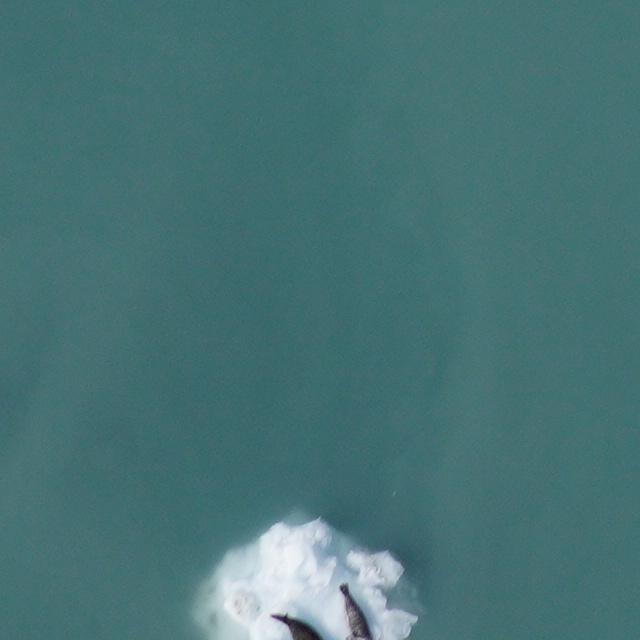seal: (335, 579, 372, 640), (265, 606, 326, 640)
